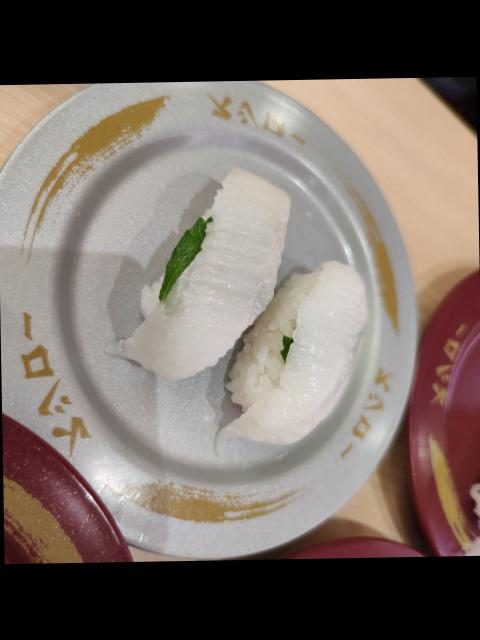janred: (1, 364, 130, 564), (400, 258, 480, 552), (252, 533, 422, 560)
janwhite: (0, 77, 400, 530)
